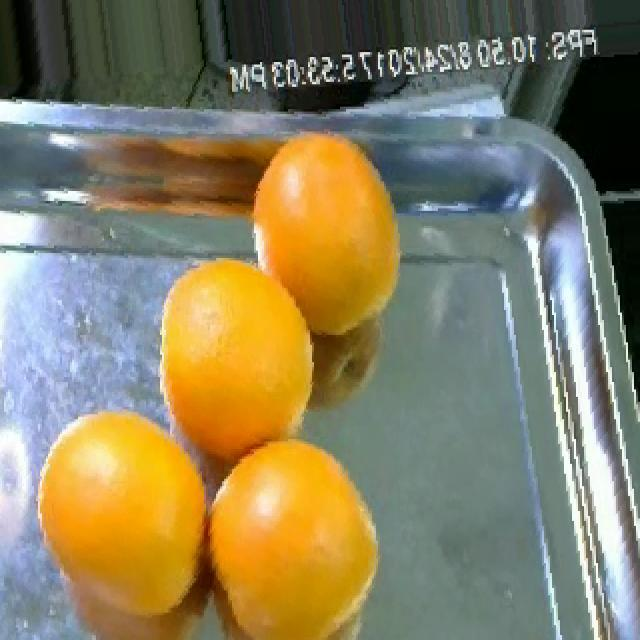Good_Orange: (38, 412, 208, 615), (160, 260, 316, 469), (212, 442, 376, 640), (250, 134, 400, 337)
